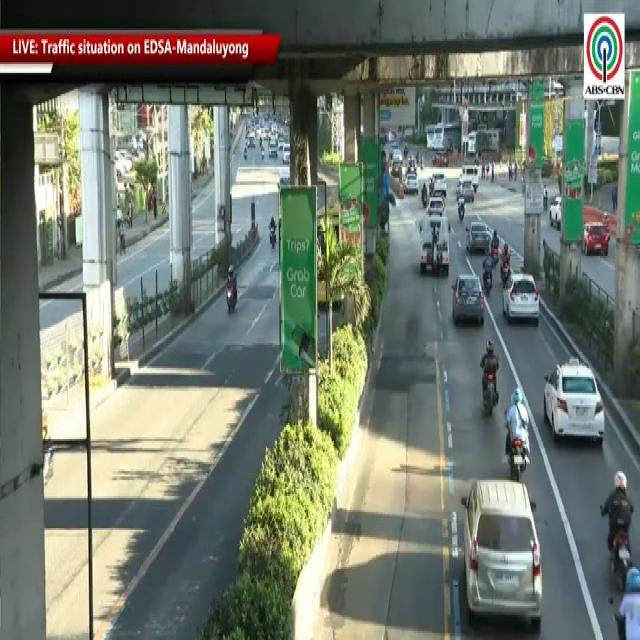car: (458, 464, 541, 633), (538, 348, 609, 452), (503, 270, 553, 326), (453, 268, 481, 336), (466, 215, 496, 254)
motorbike: (605, 466, 635, 600), (506, 367, 530, 494), (476, 326, 502, 434), (223, 263, 240, 317)
truck: (414, 214, 454, 276)
